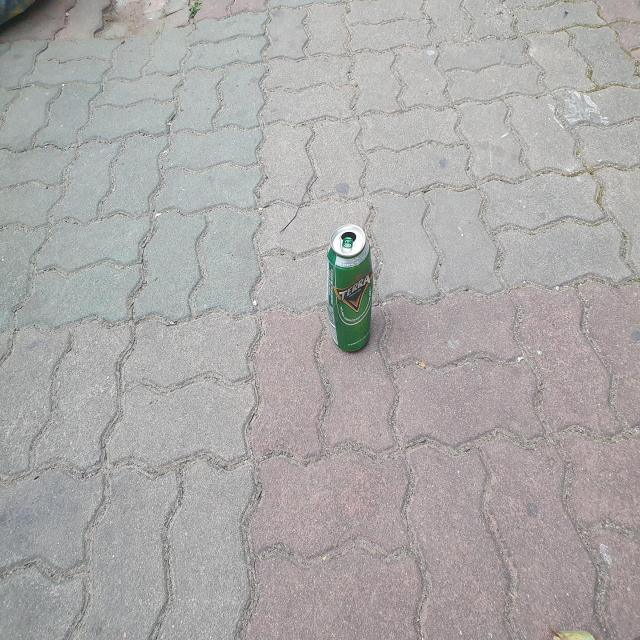can: (327, 224, 373, 351)
